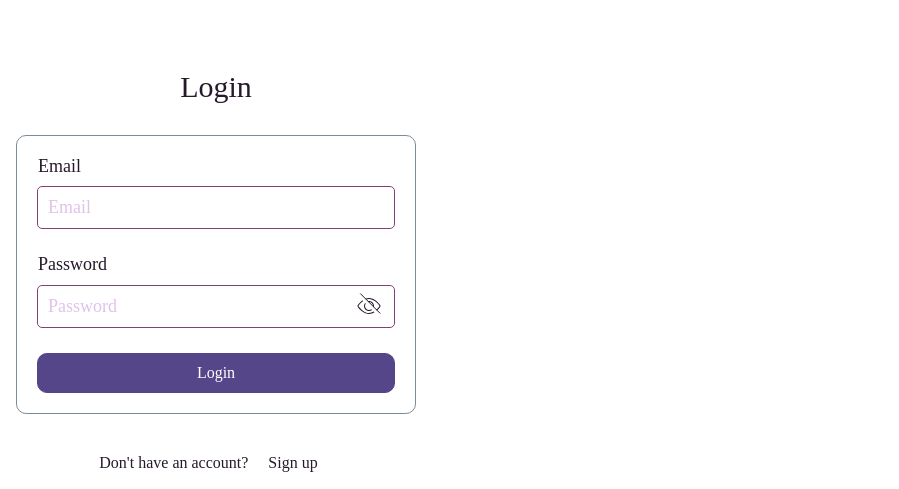
Test: AuthForm Component › handles form submissions for the scenario where login is successful
The image size is (899, 489).
Step 1. Type "test@example.com" into the field labelled "Email" → (216,208), box [38,187,394,228]
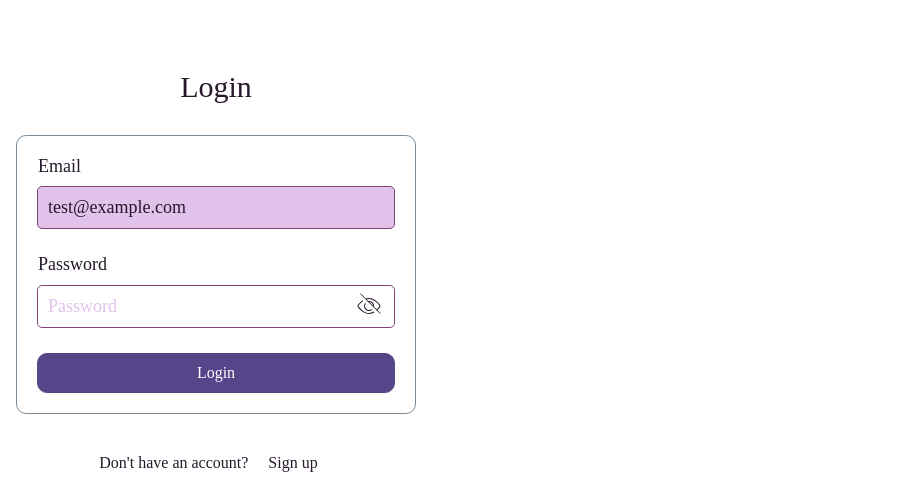
Step 2. Type "correctPassword123!" into the password field labelled "Password" → (191,306), box [38,286,344,327]
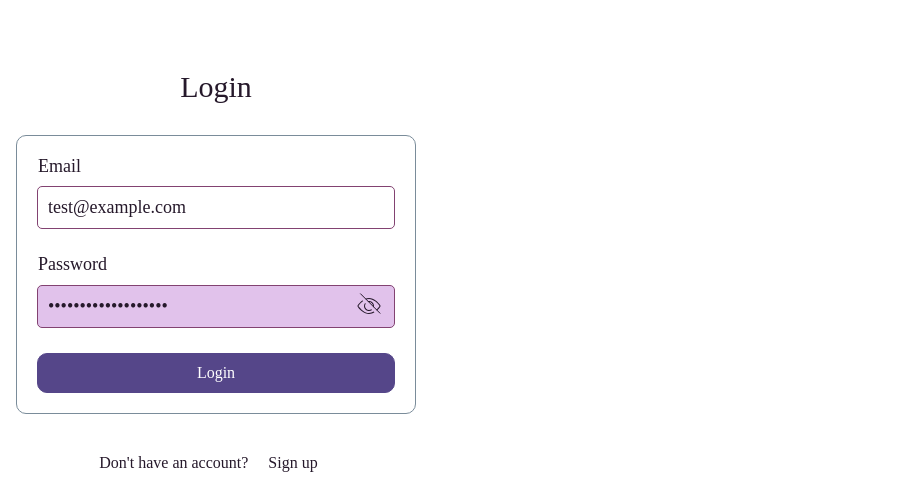
Step 3. Click the button "Login" → (216,373), box [37,353,395,393]
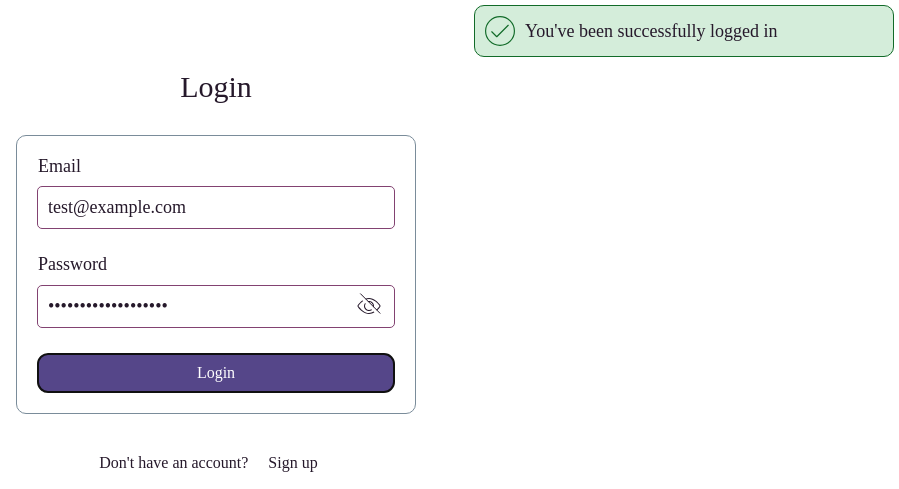
Check: the picture with alt text "notification" is shown, box [485,16,515,46]
Check: the text "You've been successfully logged in" is shown, box [525,21,777,41]
